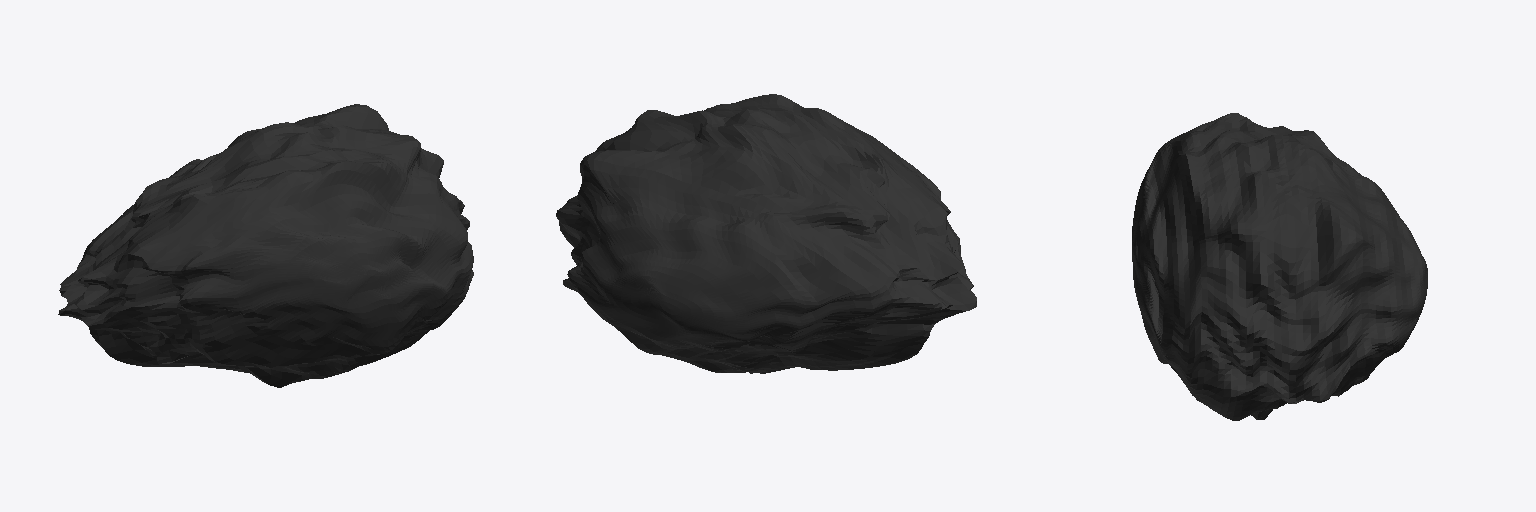
Rendered from newasteroid.obj.
3 renders of one model, left to right at view 1: azimuth 30°, elevation 25°; view 2: azimuth 150°, elevation 25°; view 3: azimuth 270°, elevation 25°, orthographic.
Visible parts, largest first — view 1: Sphere01; view 2: Sphere01; view 3: Sphere01.
Boxes of the visible parts, <box> form: Sphere01: <box>58,104,473,387</box>; Sphere01: <box>556,94,976,373</box>; Sphere01: <box>1132,113,1427,420</box>.
Size of the model in its own units: 3.91 by 2.32 by 2.47.